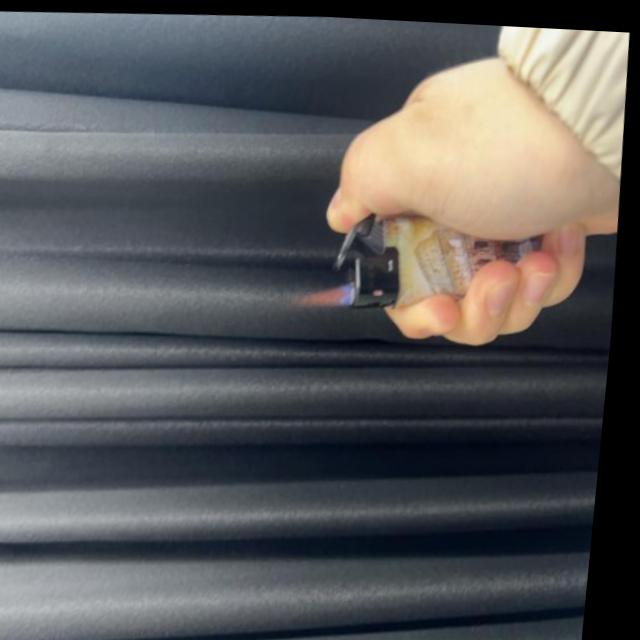Fire: (295, 277, 360, 305)
